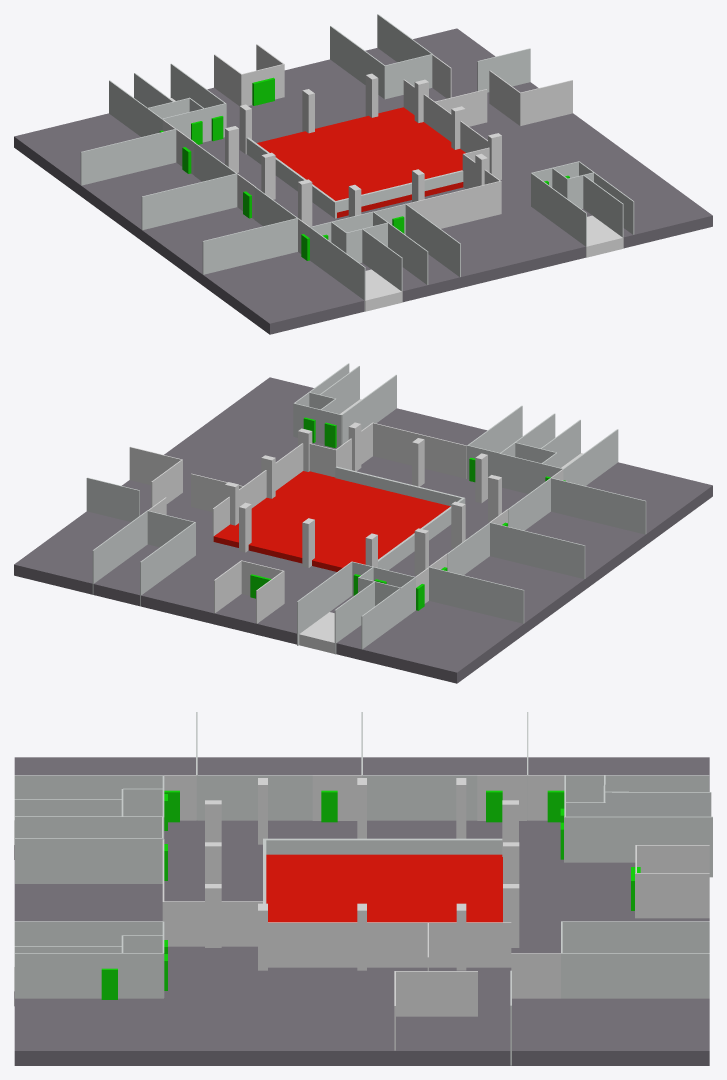
Rendered from floor00 3m.fbx.
The picture shows the model from 3 angles, top to bottom: view 1: azimuth 30°, elevation 25°; view 2: azimuth 150°, elevation 25°; view 3: azimuth 270°, elevation 25°; orthographic projection. The views are drawn at different scales.
Parts seen in each view (by area): view 1: Cube, Cube.001, Cube.005, Cube.004, Cube.003, Cube.027, Cube.029, Cube.047, Cube.035, Cube.023, Cube.018, Cube.020 (+35 smaller); view 2: Cube, Cube.001, Cube.003, Cube.004, Cube.005, Cube.027, Cube.020, Cube.014, Cube.019, Cube.018, Cube.120, Cube.022 (+35 smaller); view 3: Cube, Cube.001, Cube.020, Cube.019, Cube.035, Cube.028, Cube.014, Cube.018, Cube.119, Cube.118, Cube.059, Cube.024 (+32 smaller).
Part boxes in pixels (x1,y1,x2,y2): Cube: (14,28,712,334); Cube.001: (257,107,465,217); Cube.005: (80,129,176,185); Cube.004: (141,173,237,230); Cube.003: (202,218,297,274); Cube.027: (406,180,501,228); Cube.029: (531,173,586,256); Cube.047: (309,227,365,311); Cube.035: (405,203,460,276); Cube.023: (519,80,572,126); Cube.018: (330,26,385,99); Cube.020: (403,79,487,152); Cube: (14,377,712,683); Cube.001: (213,471,450,571); Cube.003: (550,477,646,534); Cube.004: (490,522,585,578); Cube.005: (429,567,524,623); Cube.027: (372,422,466,478); Cube.020: (212,443,303,541); Cube.014: (297,561,352,645); Cube.019: (92,510,147,594); Cube.018: (140,522,195,606); Cube.120: (361,577,415,649); Cube.022: (86,477,139,521); Cube: (14,757,709,1065); Cube.001: (266,854,502,922); Cube.020: (268,922,511,967); Cube.019: (561,953,709,998); Cube.035: (15,838,163,883); Cube.028: (15,953,163,998); Cube.014: (564,816,712,877); Cube.018: (561,921,709,952); Cube.119: (362,775,477,820); Cube.118: (197,775,312,820); Cube.059: (263,838,502,854); Cube.024: (395,971,477,1016).
Bounding box in the file's own units: 4201 × 548 × 4224.
